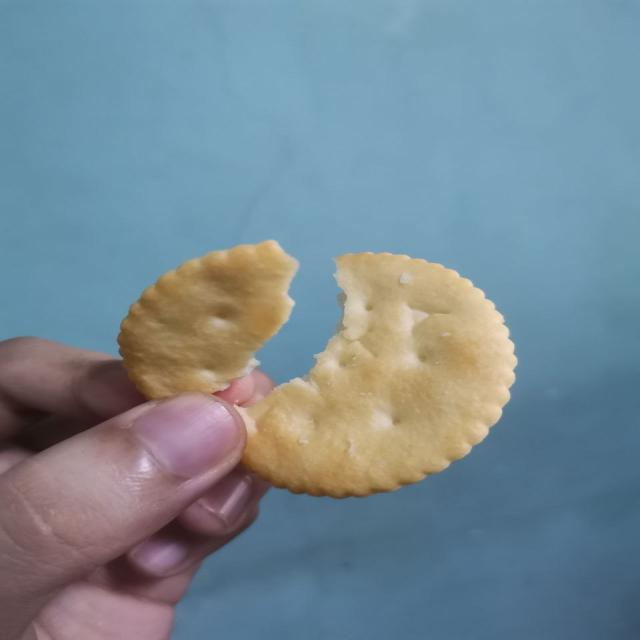broken biscuit: (232, 249, 518, 499), (115, 238, 300, 400)
